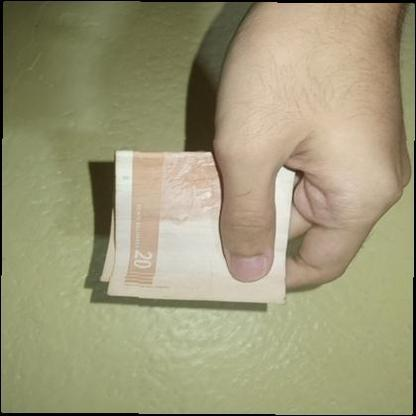twenty-back-vef: (99, 149, 294, 304)
